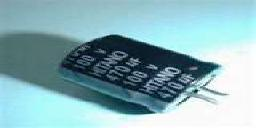Electrolytic-capacitor: (57, 33, 237, 115)
